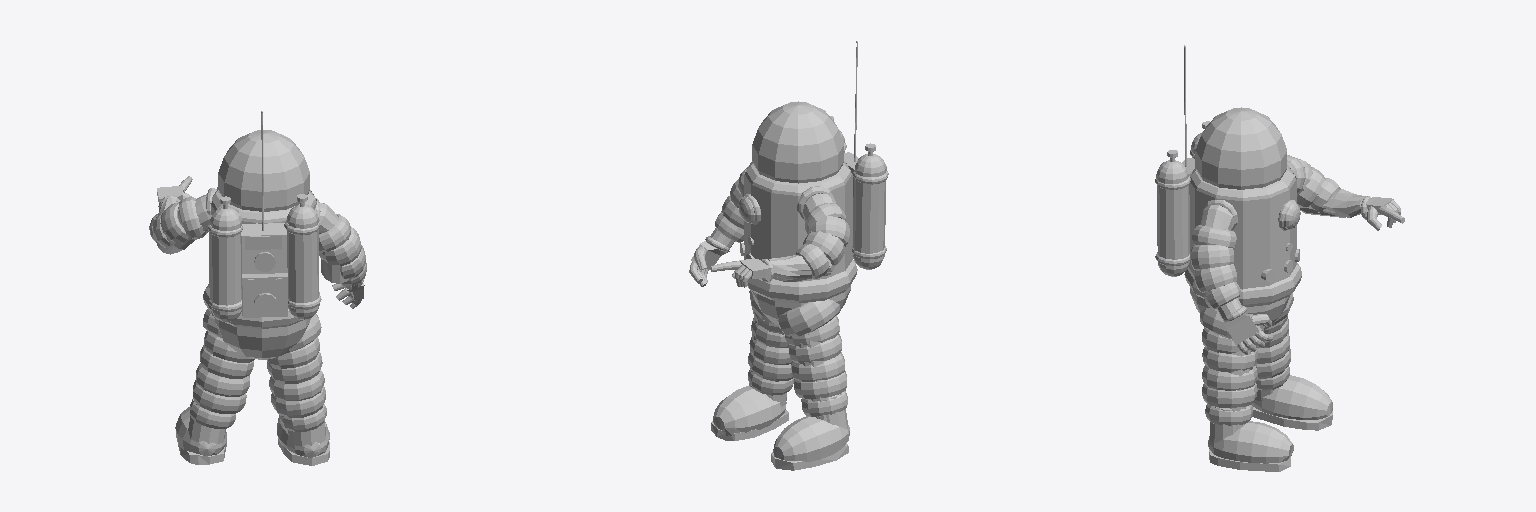
Rendered from Astronaut2.obj.
3 views of the same model, side by side, from view 1: azimuth 30°, elevation 25°; view 2: azimuth 150°, elevation 25°; view 3: azimuth 270°, elevation 25° (orthographic).
Parts seen in each view (by area): view 1: group[number redacted], group[number redacted], group[number redacted], group[number redacted], group[number redacted], group[number redacted], group[number redacted], group[number redacted], group[number redacted], group[number redacted], group[number redacted], group[number redacted] (+11 smaller); view 2: group[number redacted], group[number redacted], group[number redacted], group[number redacted], group[number redacted], group[number redacted], group[number redacted], group[number redacted], group[number redacted], group[number redacted], group[number redacted], group[number redacted] (+14 smaller); view 3: group[number redacted], group[number redacted], group[number redacted], group[number redacted], group[number redacted], group[number redacted], group[number redacted], group[number redacted], group[number redacted], group[number redacted], group[number redacted], group[number redacted] (+8 smaller).
Boxes of the visible parts, <box> form: group[number redacted]: <box>208,111,321,321</box>; group[number redacted]: <box>218,130,309,211</box>; group[number redacted]: <box>319,202,366,308</box>; group[number redacted]: <box>214,317,310,359</box>; group[number redacted]: <box>196,363,249,396</box>; group[number redacted]: <box>269,369,324,400</box>; group[number redacted]: <box>193,380,246,413</box>; group[number redacted]: <box>200,344,253,378</box>; group[number redacted]: <box>175,407,226,455</box>; group[number redacted]: <box>271,386,325,417</box>; group[number redacted]: <box>203,284,319,328</box>; group[number redacted]: <box>267,352,322,383</box>; group[number redacted]: <box>752,101,843,183</box>; group[number redacted]: <box>744,163,852,281</box>; group[number redacted]: <box>830,41,888,269</box>; group[number redacted]: <box>773,416,849,461</box>; group[number redacted]: <box>689,167,747,286</box>; group[number redacted]: <box>713,386,786,435</box>; group[number redacted]: <box>747,260,857,302</box>; group[number redacted]: <box>777,299,839,336</box>; group[number redacted]: <box>745,161,851,195</box>; group[number redacted]: <box>768,193,835,281</box>; group[number redacted]: <box>791,352,844,381</box>; group[number redacted]: <box>794,371,846,399</box>; group[number redacted]: <box>1195,107,1286,189</box>; group[number redacted]: <box>1190,205,1272,354</box>; group[number redacted]: <box>1188,168,1296,289</box>; group[number redacted]: <box>1155,45,1209,276</box>; group[number redacted]: <box>1208,421,1293,463</box>; group[number redacted]: <box>1252,375,1332,419</box>; group[number redacted]: <box>1190,164,1295,200</box>; group[number redacted]: <box>1184,263,1301,306</box>; group[number redacted]: <box>1287,161,1367,217</box>; group[number redacted]: <box>1202,365,1257,390</box>; group[number redacted]: <box>1202,383,1257,407</box>; group[number redacted]: <box>1202,347,1257,372</box>.
Size of the model in its own units: 1.9 by 3.94 by 2.35.